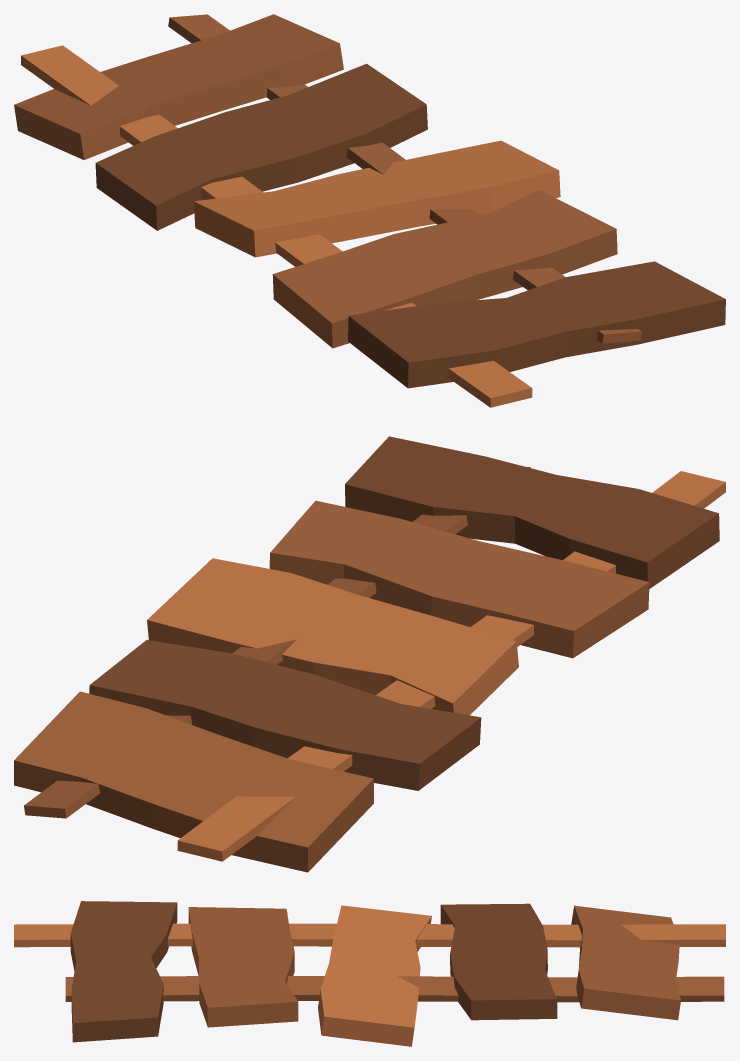
Rendered from walkway.fbx.
3 views of the same model, one above another, from view 1: azimuth 30°, elevation 25°; view 2: azimuth 150°, elevation 25°; view 3: azimuth 270°, elevation 25° (orthographic). The views are drawn at different scales.
Visible parts, largest first — view 1: Cube_4, Cube_1, Cube_3, Cube_2, Cube, Cube_5, Cube_7; view 2: Cube, Cube_2, Cube_3, Cube_1, Cube_4, Cube_5, Cube_7; view 3: Cube_4, Cube_2, Cube_3, Cube_1, Cube, Cube_5, Cube_7.
Part boxes in pixels (x1=…): Cube_4: x1=348, y1=261, x2=725, y2=388; Cube_1: x1=95, y1=63, x2=427, y2=230; Cube_3: x1=272, y1=190, x2=617, y2=348; Cube_2: x1=194, y1=140, x2=560, y2=257; Cube: x1=14, y1=14, x2=343, y2=159; Cube_5: x1=21, y1=45, x2=532, y2=407; Cube_7: x1=168, y1=14, x2=641, y2=343; Cube: x1=14, y1=691, x2=373, y2=872; Cube_2: x1=147, y1=558, x2=518, y2=715; Cube_3: x1=269, y1=500, x2=649, y2=658; Cube_1: x1=89, y1=640, x2=481, y2=790; Cube_4: x1=345, y1=436, x2=719, y2=588; Cube_5: x1=177, y1=471, x2=725, y2=861; Cube_7: x1=24, y1=467, x2=530, y2=818; Cube_4: x1=70, y1=901, x2=177, y2=1042; Cube_2: x1=318, y1=905, x2=431, y2=1046; Cube_3: x1=188, y1=907, x2=298, y2=1027; Cube_1: x1=440, y1=903, x2=557, y2=1020; Cube: x1=571, y1=905, x2=680, y2=1020; Cube_5: x1=14, y1=923, x2=725, y2=947; Cube_7: x1=65, y1=976, x2=724, y2=1002.
Bounding box in the file's own units: 94.47 × 17.21 × 233.
